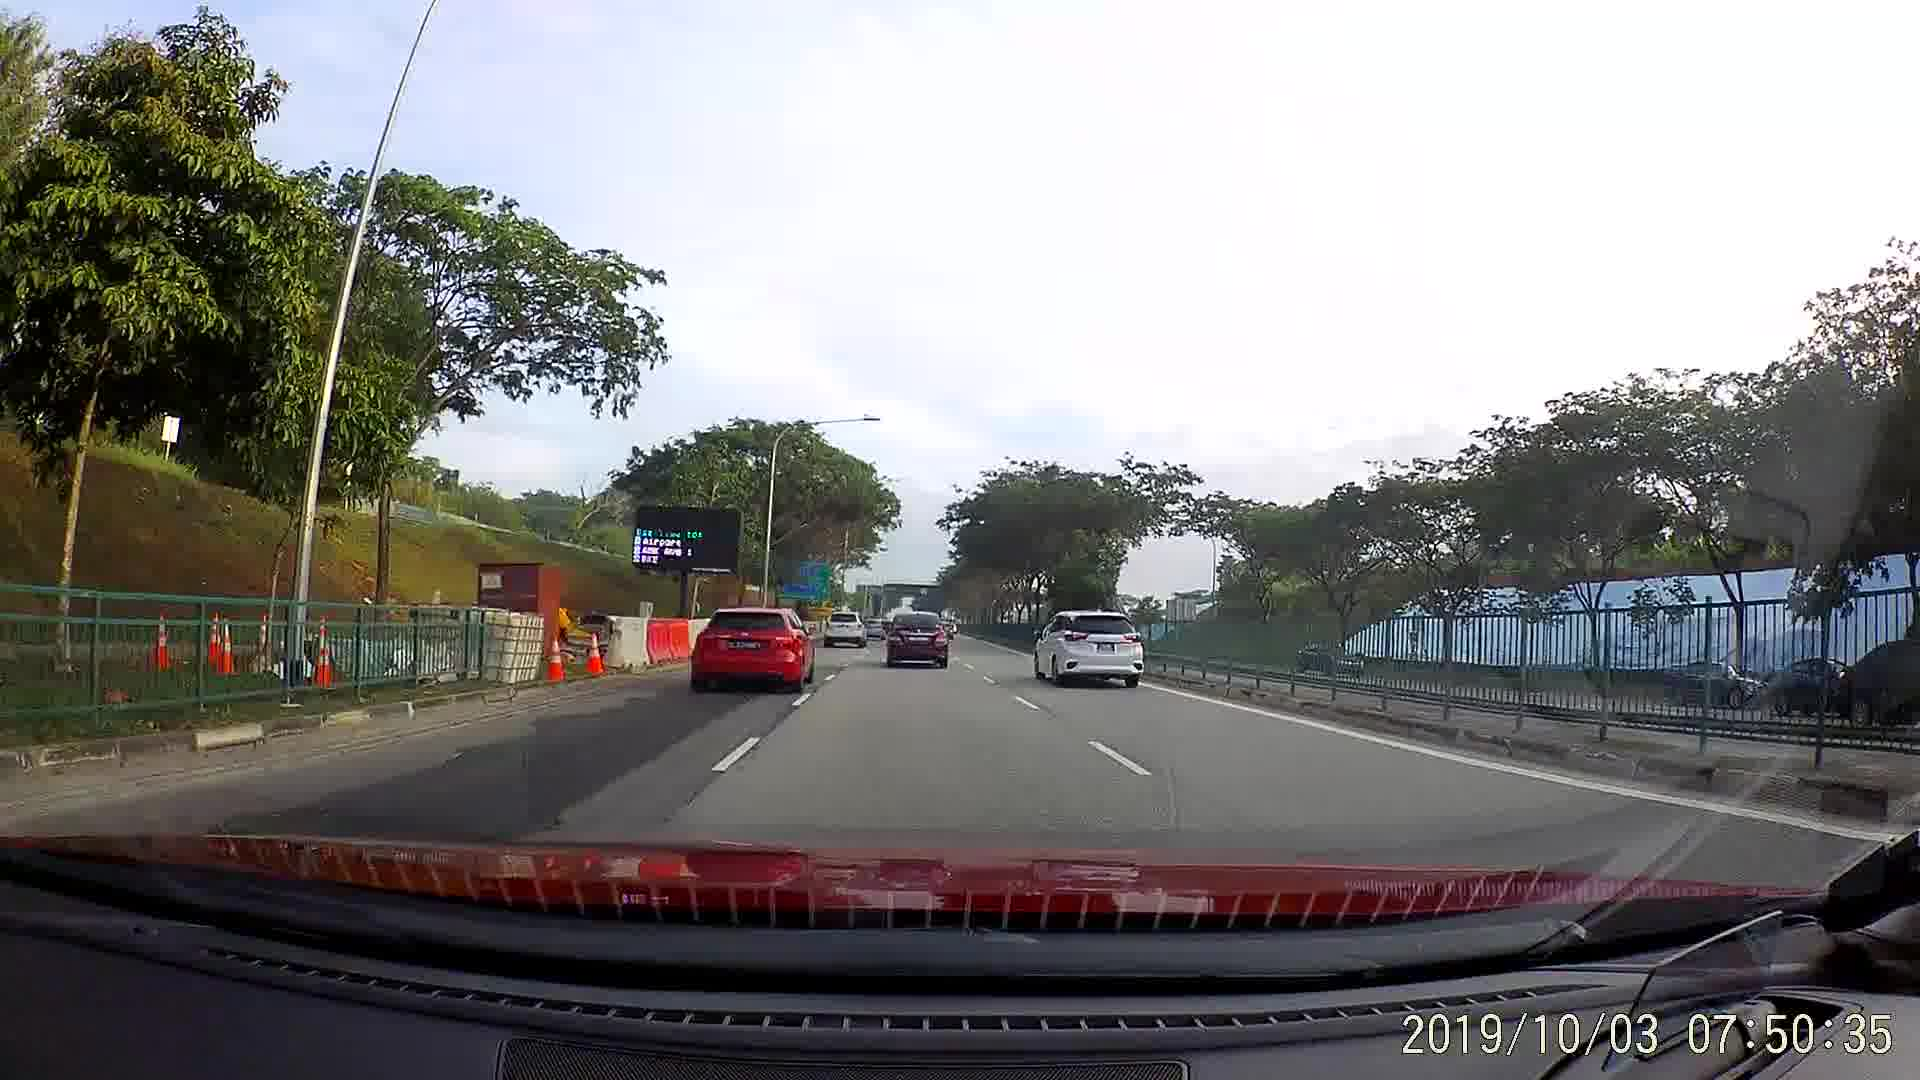car: (684, 597, 818, 699), (1030, 607, 1149, 694), (1658, 651, 1772, 723), (882, 605, 959, 669), (1291, 632, 1370, 680), (816, 608, 872, 653), (861, 617, 895, 640)
